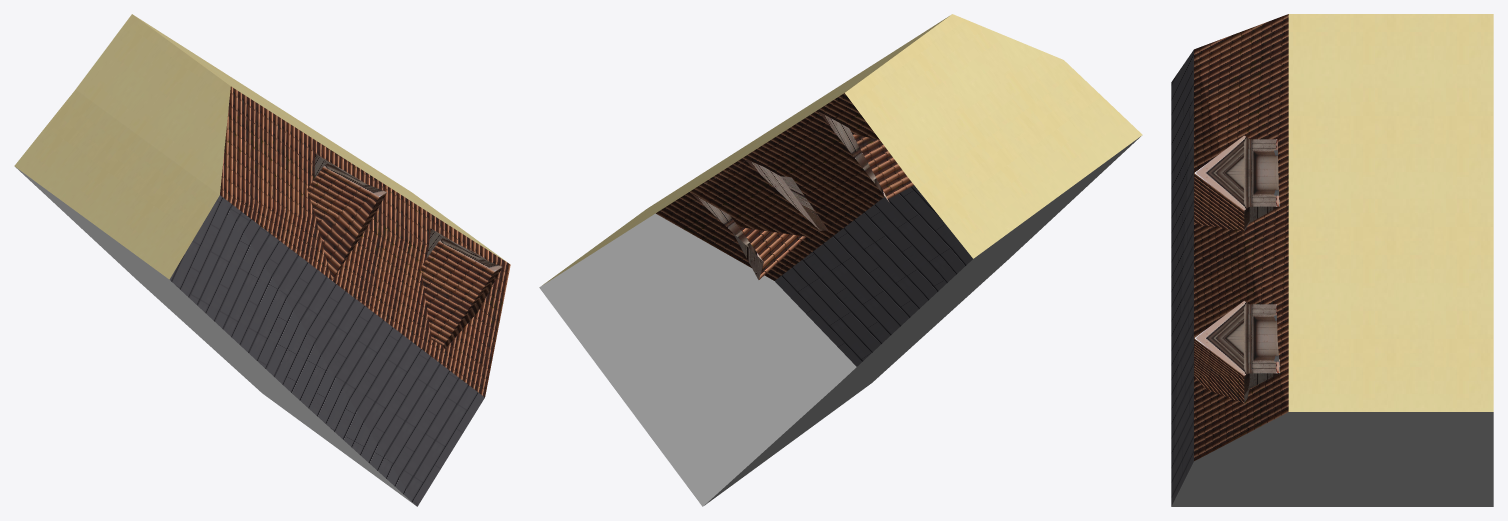
File: Laboratooriumi_22_2-origo.obj
3 views of the same model, side by side, from view 1: azimuth 30°, elevation 25°; view 2: azimuth 150°, elevation 25°; view 3: azimuth 270°, elevation 25° (orthographic). The views are drawn at different scales.
Visible parts, largest first — view 1: Laboratooriumi_22_2; view 2: Laboratooriumi_22_2; view 3: Laboratooriumi_22_2.
Part boxes in pixels (bbox=[...]): Laboratooriumi_22_2: bbox=[14, 14, 510, 506]; Laboratooriumi_22_2: bbox=[539, 14, 1142, 506]; Laboratooriumi_22_2: bbox=[1171, 14, 1493, 506].
Size of the model in its own units: 10.12 by 10 by 6.84.
